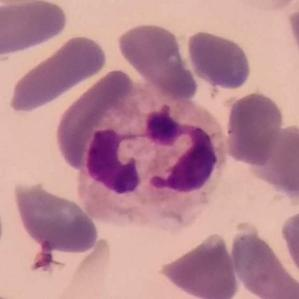Neutrophil: (75, 90, 231, 227)
RBC: (53, 67, 153, 175), (5, 32, 110, 117), (115, 20, 201, 105), (10, 180, 102, 256), (155, 230, 241, 299), (227, 222, 299, 298), (223, 90, 286, 166), (184, 28, 254, 92), (0, 0, 70, 60), (248, 121, 299, 200), (278, 204, 299, 284), (283, 1, 299, 70)
